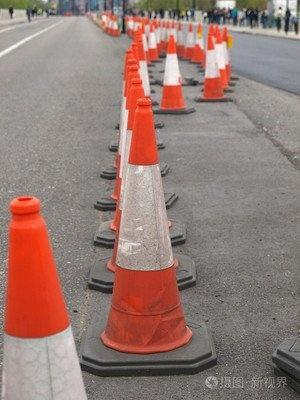cone_barrel: (93, 100, 189, 356), (105, 76, 151, 267), (156, 34, 191, 114), (198, 32, 226, 98), (211, 31, 228, 88), (109, 14, 117, 34)
